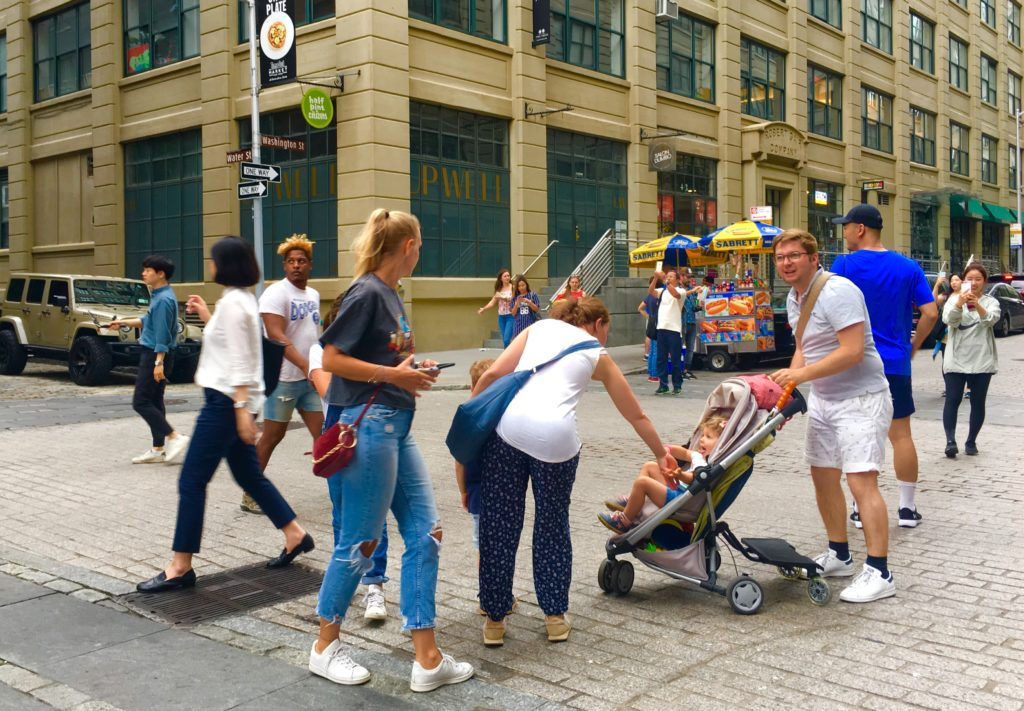person: (296, 203, 467, 710), (442, 286, 671, 648), (145, 236, 311, 628), (758, 227, 904, 618), (830, 202, 935, 536), (250, 232, 337, 567), (113, 255, 184, 468), (934, 262, 1000, 459), (647, 266, 691, 393), (483, 262, 514, 347), (505, 277, 544, 342)
